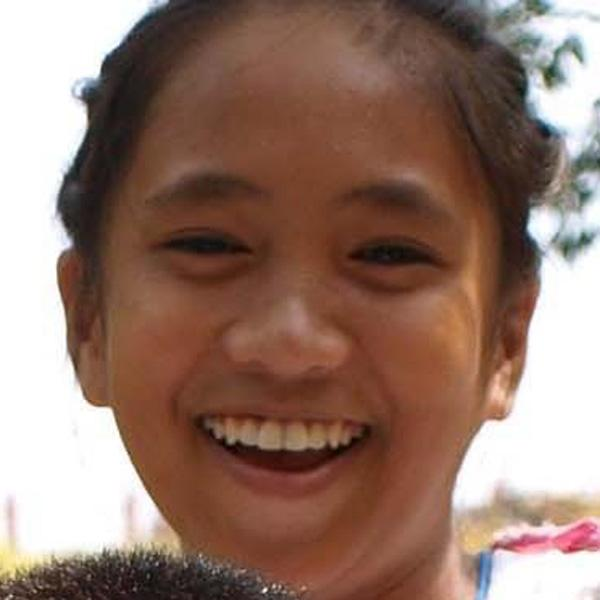Eyes: (149, 215, 257, 274), (341, 225, 448, 284)
